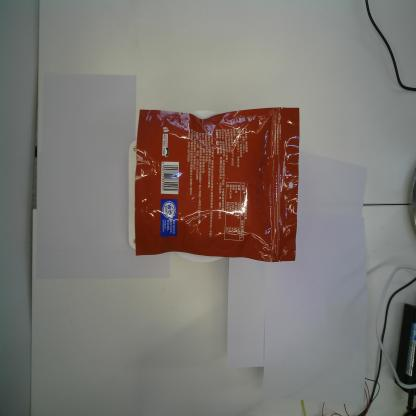Dried Food: (133, 106, 301, 264)
